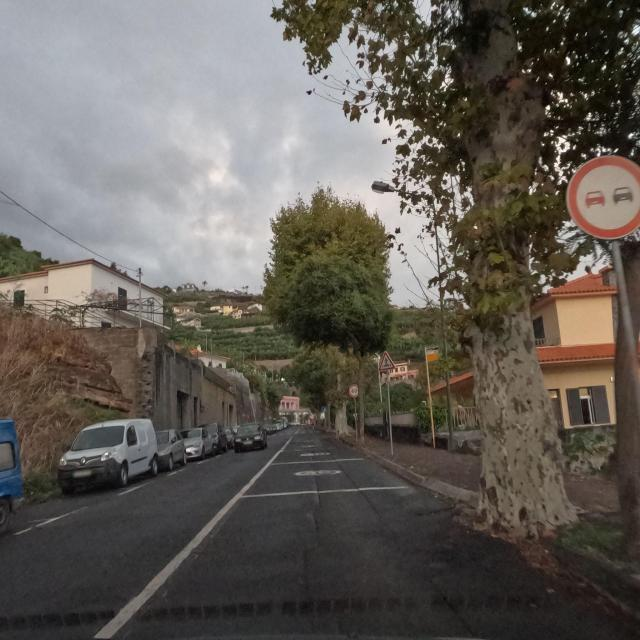car: (56, 418, 159, 494), (0, 416, 24, 542), (156, 428, 187, 471), (180, 427, 215, 461), (234, 423, 268, 452), (199, 422, 228, 453), (223, 427, 236, 447), (281, 419, 289, 428)
